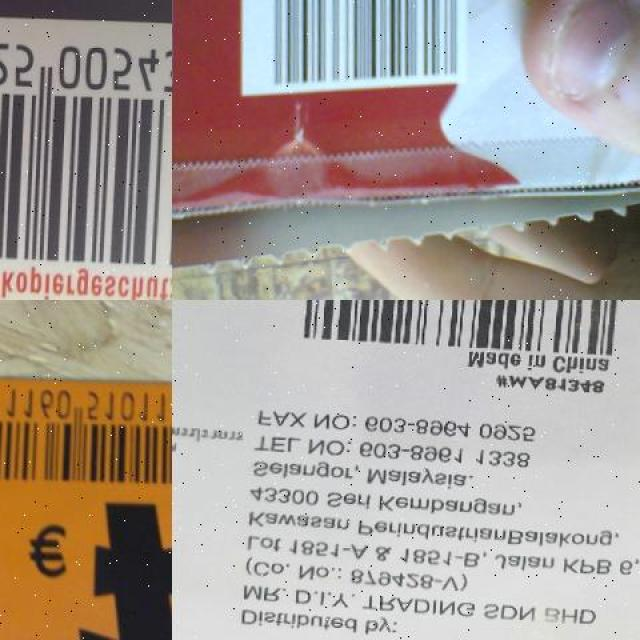Barcode: (0, 13, 172, 300), (236, 0, 472, 99), (0, 375, 172, 496), (286, 299, 640, 357)
